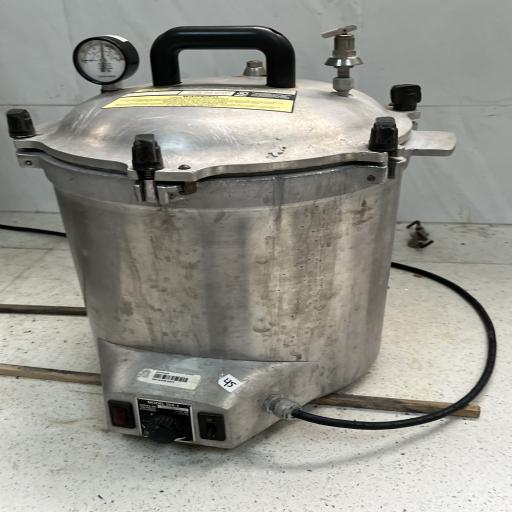Autoclave: (2, 9, 464, 456)
